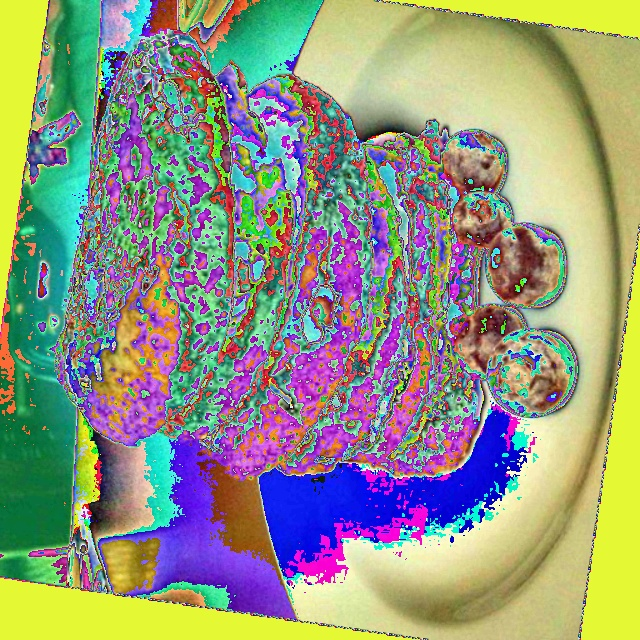background: (54, 28, 576, 481)
